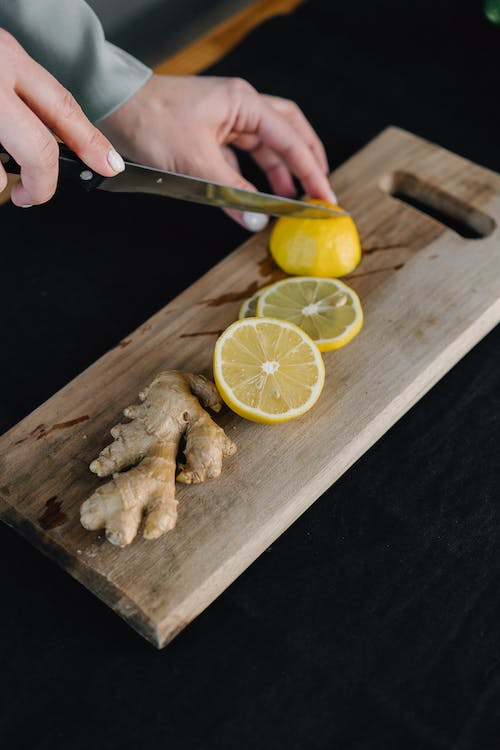knife: (0, 141, 354, 222)
